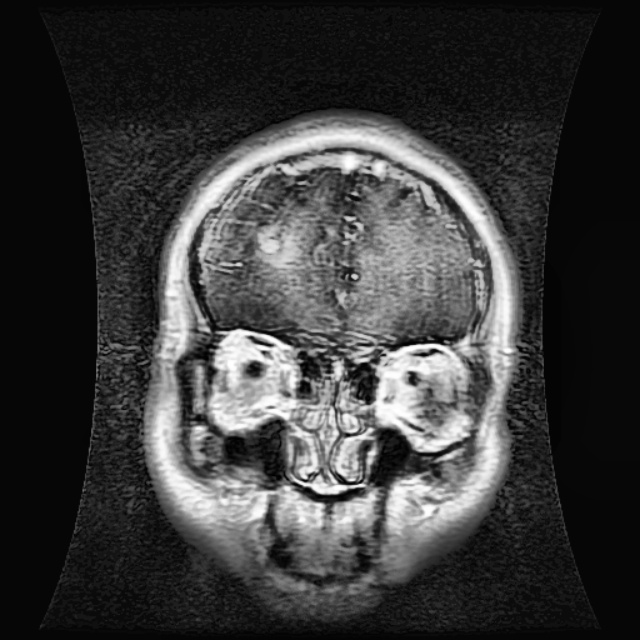Meningioma: (254, 207, 294, 260)
